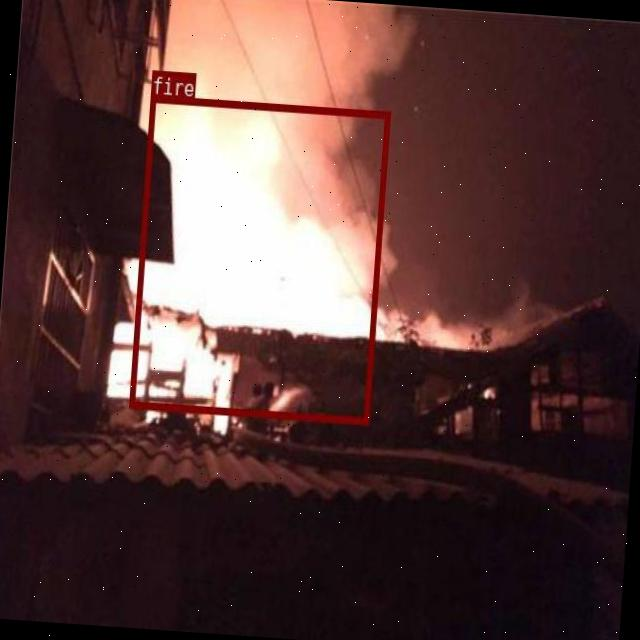fire: (128, 94, 388, 422)
